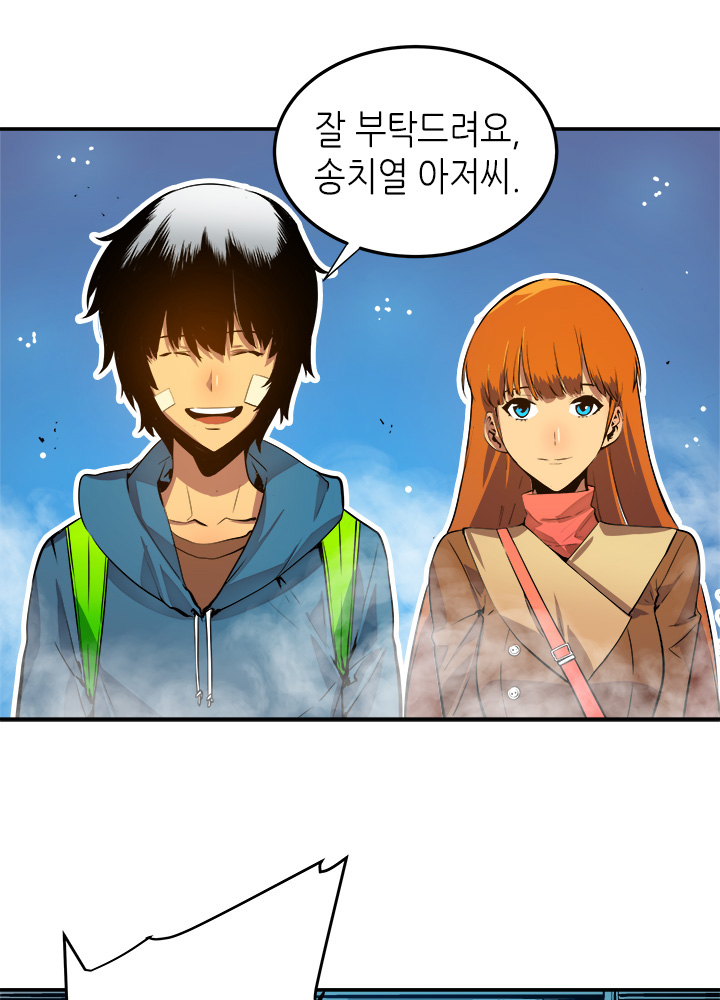dialog box: (253, 24, 586, 294), (35, 826, 364, 1000)
text: (284, 78, 539, 223)
